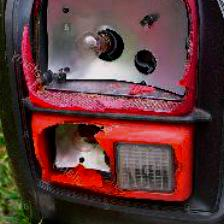tail_lamp: (22, 0, 205, 207)
